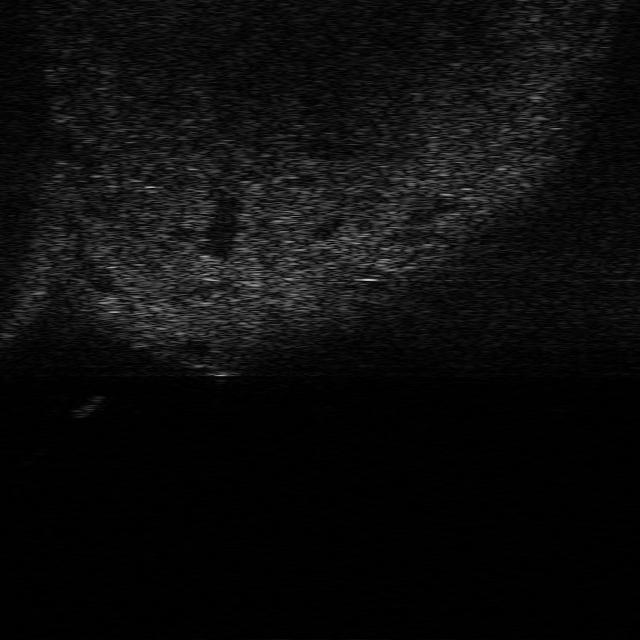cylinder: (75, 393, 105, 418)
